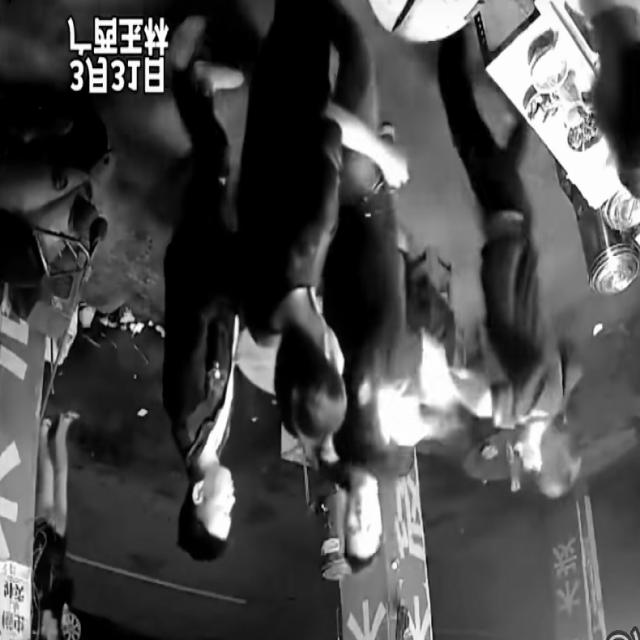fight: (330, 291, 576, 477)
nofight: (158, 21, 252, 574), (26, 396, 81, 640)
